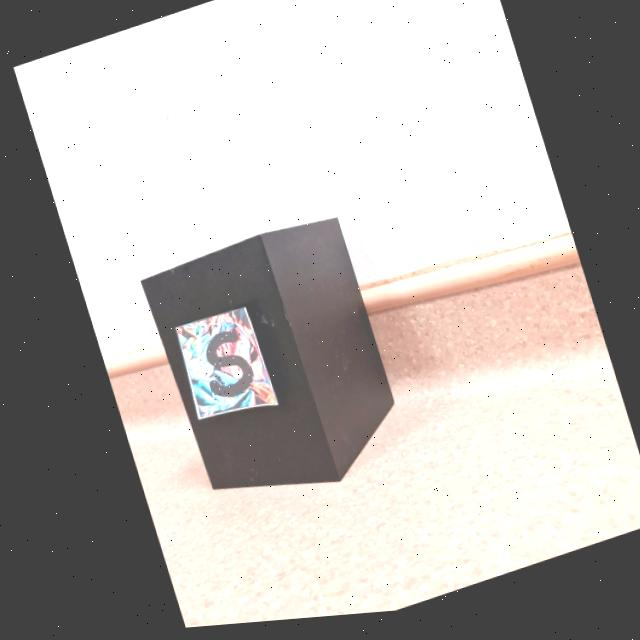S: (202, 332, 249, 401)
